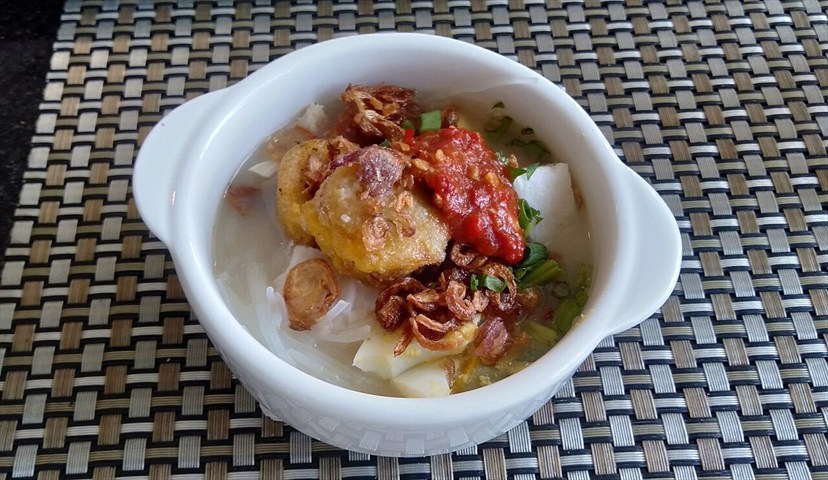Soto Ayam: (131, 47, 790, 441)
